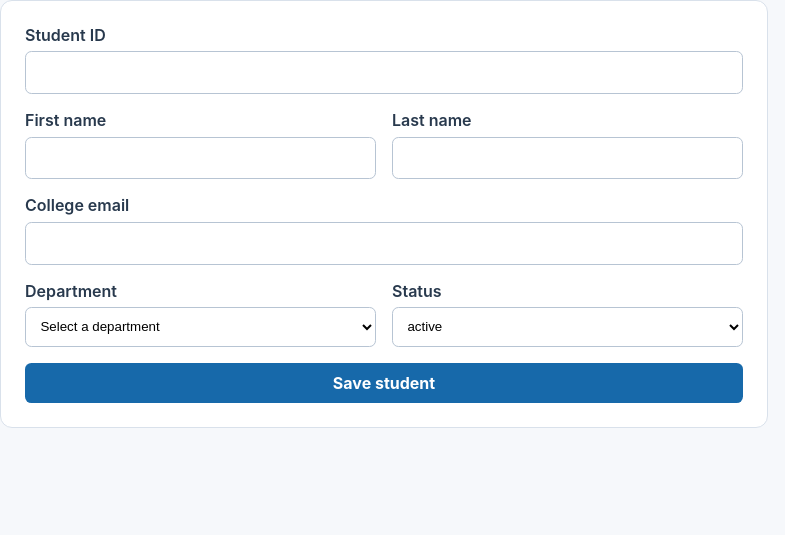
Test case: StudentForm › shows client-side validation errors before submitting
Click the button "Save student" at (384, 383), box [25,363,743,404]
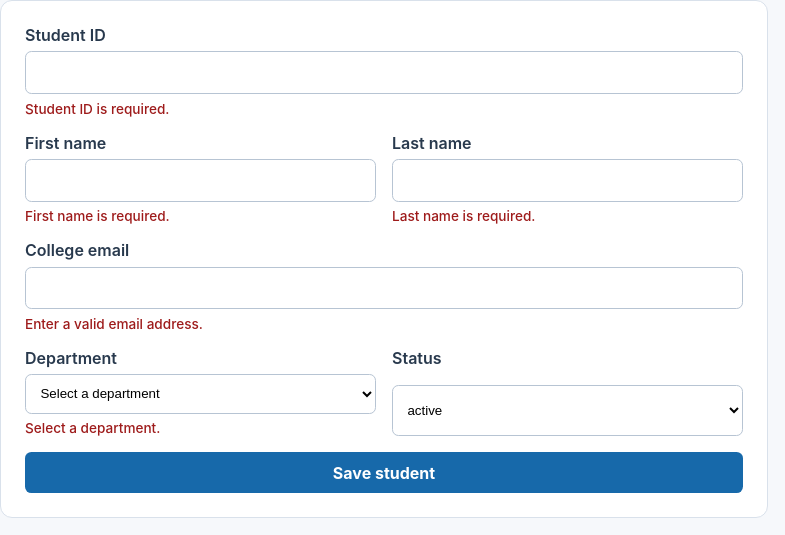
Now the text "Student ID is required." is shown, box [25,101,169,117]
Now the text "Select a department." is shown, box [25,420,160,436]
